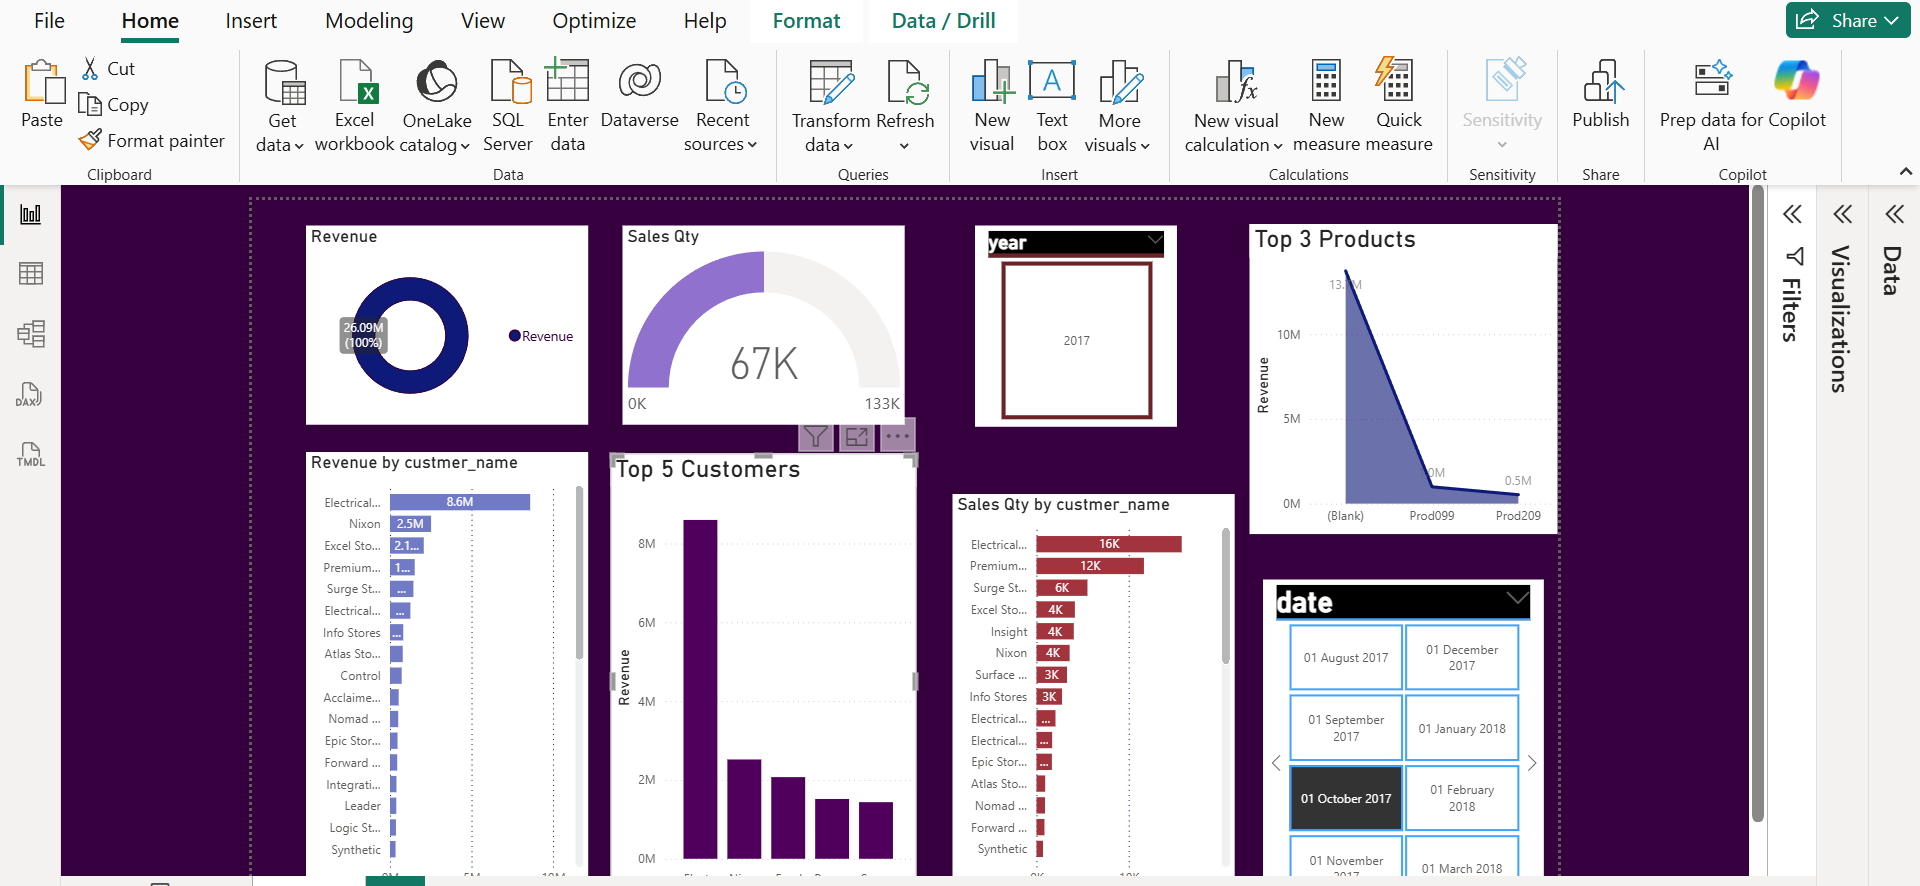

The page's visual inventory and layout, read from the dashboard file:
{"tool":"powerbi","page":{"name":"Page 1","canvas":[1280,720],"ordinal":0},"visuals":[{"type":"donutChart","fields":{"Y":["BaseMeasures.Revenue"]},"box":[52.5,25.4,276.8,195.7],"z":0},{"type":"gauge","fields":{"Y":["BaseMeasures.Sales Qty"]},"box":[362.7,25.4,276.8,195.7],"z":1},{"type":"barChart","fields":{"Y":["BaseMeasures.Revenue"],"Category":["customers.custmer_name"]},"box":[52.5,246.5,276.8,448.6],"z":2},{"type":"barChart","fields":{"Y":["BaseMeasures.Sales Qty"],"Category":["customers.custmer_name"]},"box":[687.1,287.9,276.8,407.2],"z":3},{"type":"slicer","fields":{"Values":["date.year"]},"box":[698.3,36.6,197.2,197.2],"z":4},{"type":"slicer","fields":{"Values":["date.cy_date"]},"box":[991,372.2,275.2,322.9],"z":5},{"type":"lineStackedColumnComboChart","title":"Top 5 Customers","fields":{"Category":["customers.custmer_name"],"Y":["BaseMeasures.Revenue"]},"box":[362.7,246.5,300.6,448.6],"z":6},{"type":"areaChart","title":"Top 3 Products","fields":{"Category":["products.product_code"],"Y":["BaseMeasures.Revenue"]},"box":[978.2,23.9,302.2,303.8],"z":7}]}

Visuals, with their boxes on the page's 1280x720 design canvas (x1, y1, x2, y2). These are canvas units, not pixel positions in the 1920x886 screenshot, which may show the page scaled, cropped or inside an application window:
donutChart - BaseMeasures.Revenue: <region>52, 25, 329, 221</region>
gauge - BaseMeasures.Sales Qty: <region>363, 25, 640, 221</region>
barChart - BaseMeasures.Revenue x customers.custmer_name: <region>52, 246, 329, 695</region>
barChart - BaseMeasures.Sales Qty x customers.custmer_name: <region>687, 288, 964, 695</region>
slicer - date.year: <region>698, 37, 896, 234</region>
slicer - date.cy_date: <region>991, 372, 1266, 695</region>
"Top 5 Customers" lineStackedColumnComboChart: <region>363, 246, 663, 695</region>
"Top 3 Products" areaChart: <region>978, 24, 1280, 328</region>
